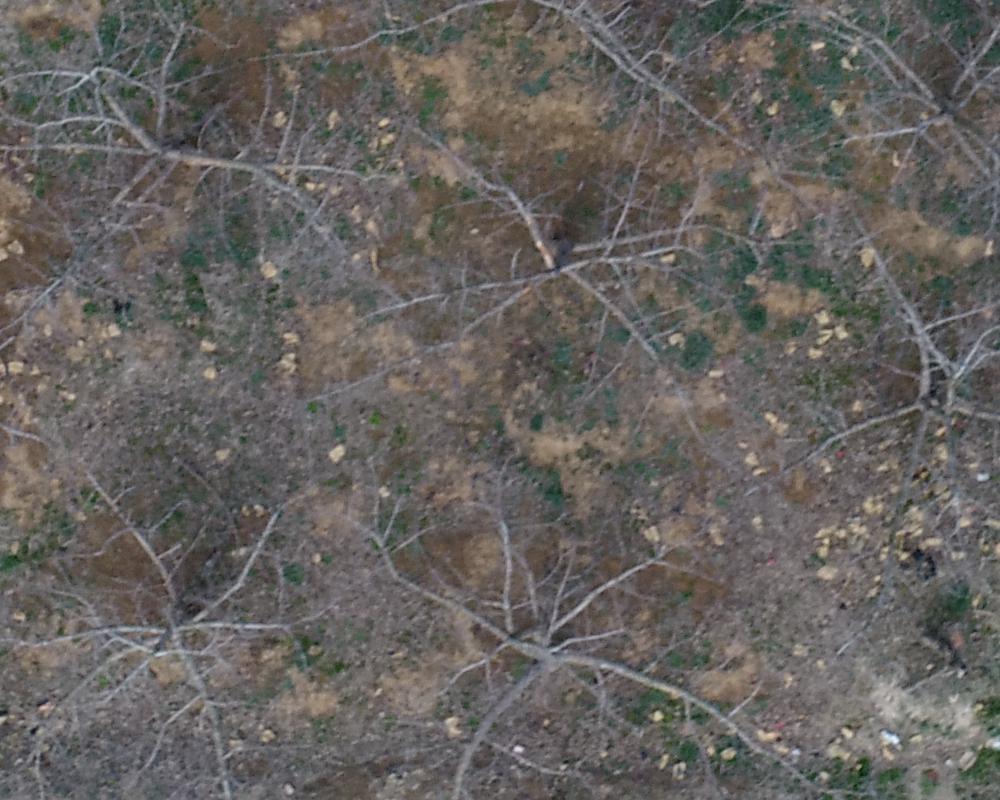apple: (367, 514, 793, 790), (364, 122, 731, 419), (28, 457, 325, 790), (10, 30, 373, 292), (747, 10, 990, 275), (823, 236, 990, 540)
